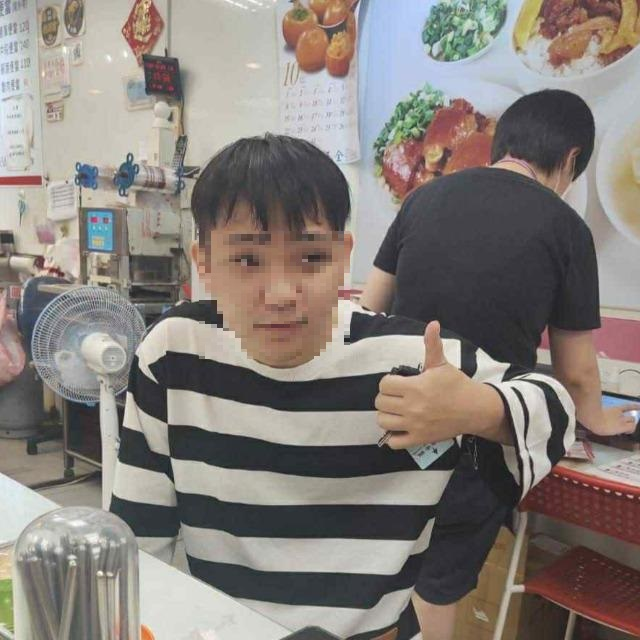NoHelmet: (191, 134, 355, 365)
